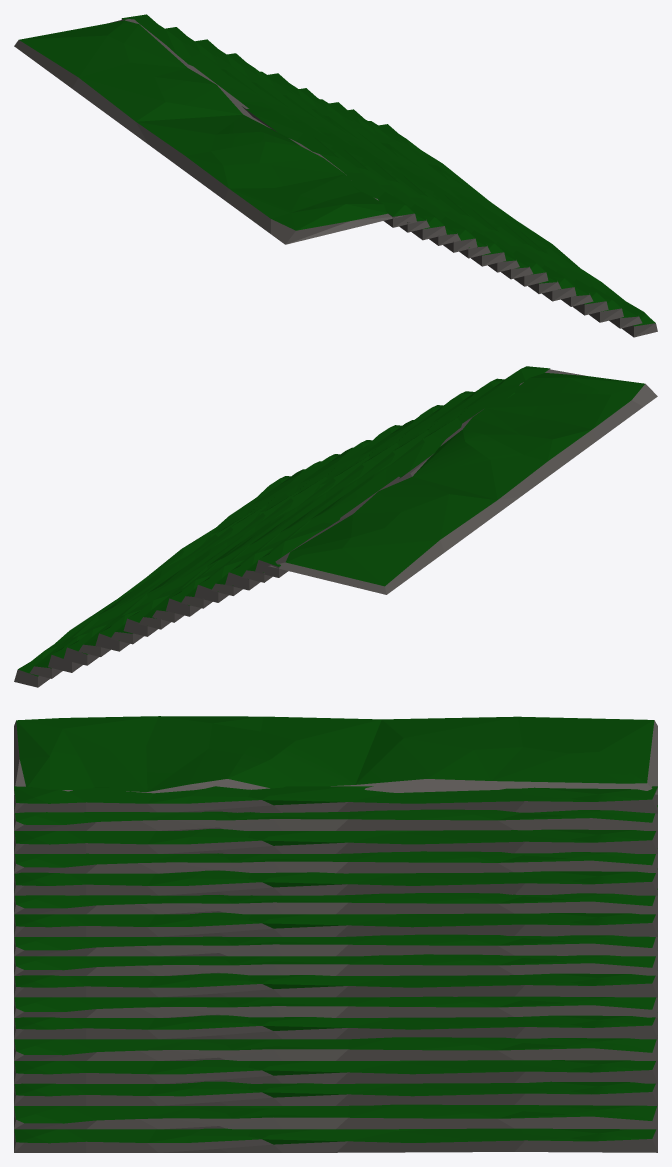
The model's file is Brick_Stair.fbx.
The picture shows the model from 3 angles, top to bottom: view 1: azimuth 30°, elevation 25°; view 2: azimuth 150°, elevation 25°; view 3: azimuth 270°, elevation 25°; orthographic projection. The views are drawn at different scales.
Parts seen in each view (by area): view 1: Brick_Stair; view 2: Brick_Stair; view 3: Brick_Stair.
Boxes of the visible parts, x1,y1,x2,y2 form: Brick_Stair: [14, 14, 657, 337]; Brick_Stair: [14, 366, 657, 687]; Brick_Stair: [14, 716, 657, 1152].
Bounding box in the file's own units: 2087 × 1022 × 2625.
